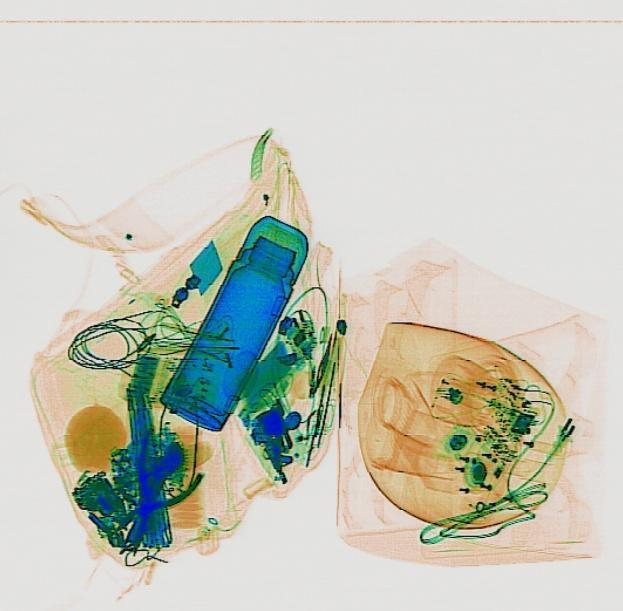Pliers: (85, 425, 214, 558)
